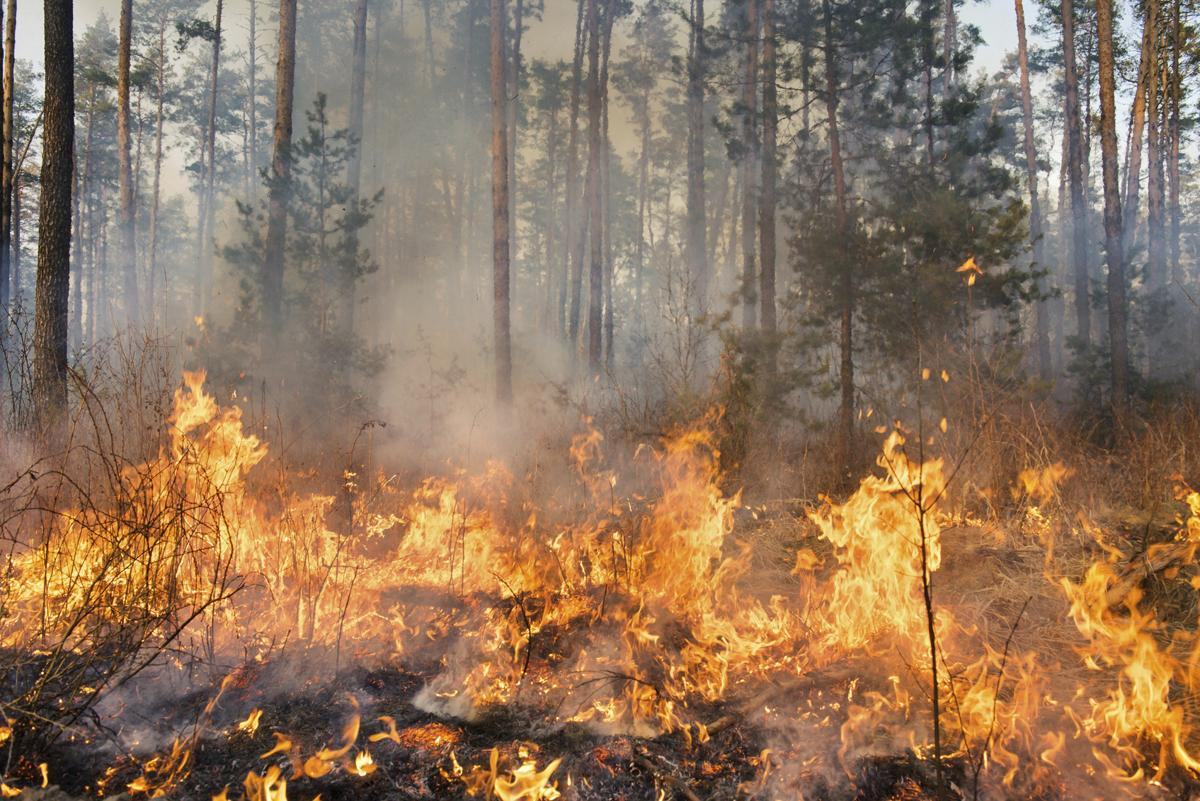fire: (0, 305, 1200, 801)
